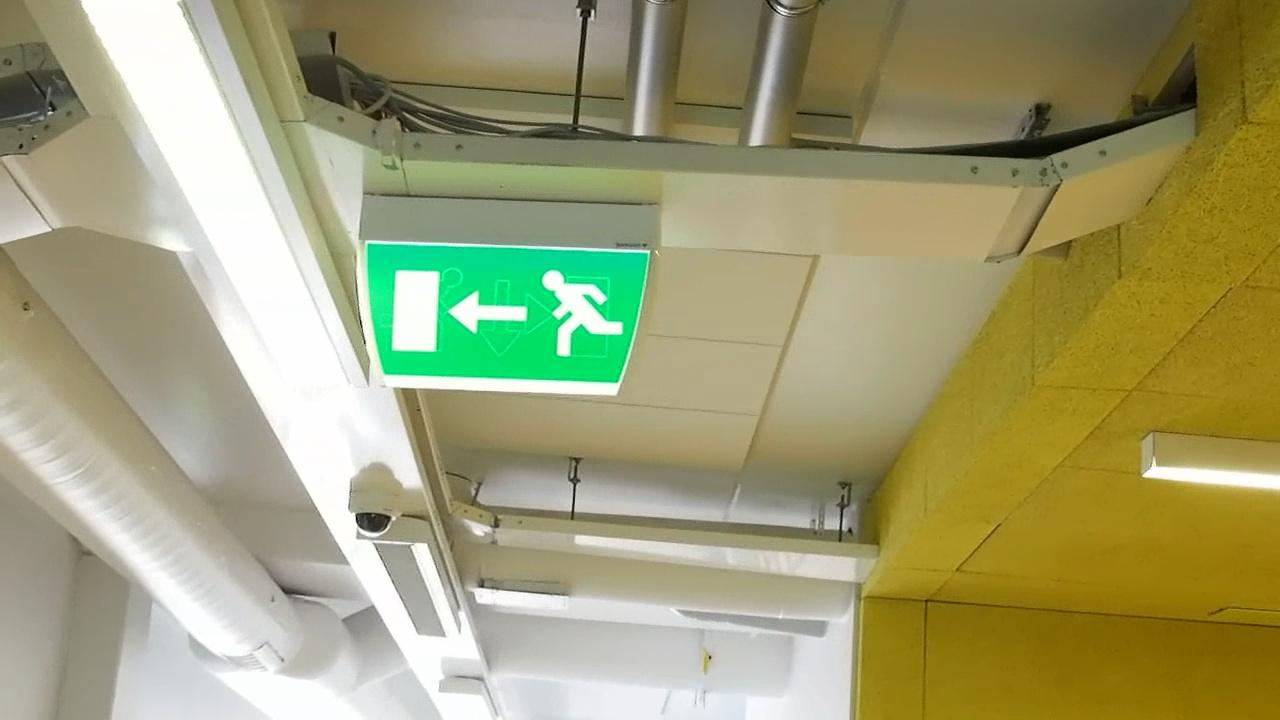exit: (358, 241, 651, 393)
